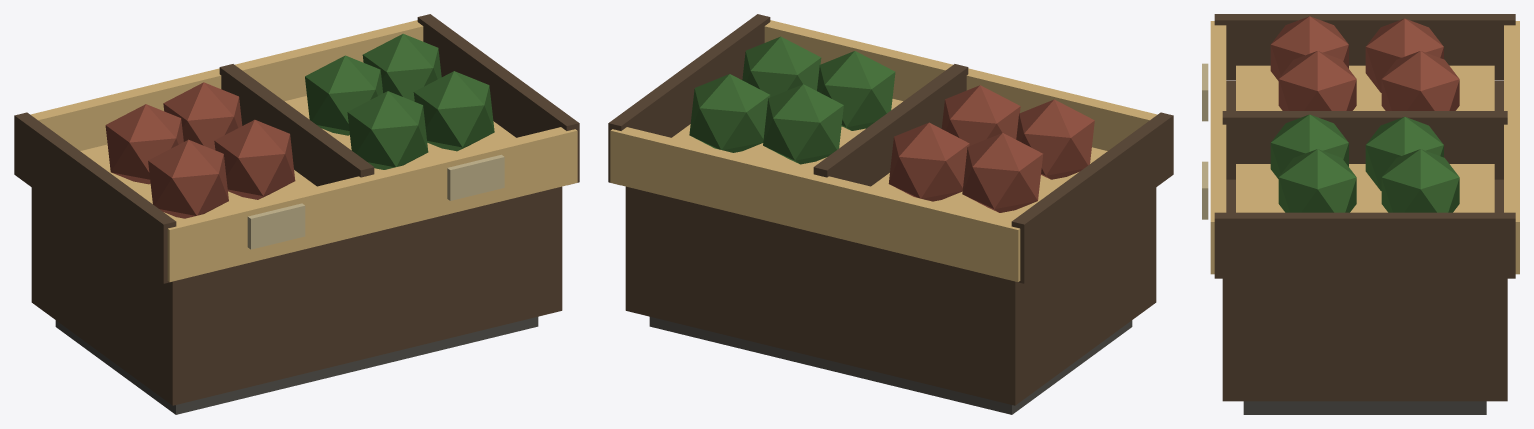
The model's file is prop-produce-bin.glb.
The picture shows the model from 3 angles, left to right: view 1: azimuth 30°, elevation 25°; view 2: azimuth 150°, elevation 25°; view 3: azimuth 270°, elevation 25°; orthographic projection.
Parts seen in each view (by area): view 1: produce_bin; view 2: produce_bin; view 3: produce_bin.
Part boxes in pixels (x1=…): produce_bin: x1=14, y1=14, x2=579, y2=414; produce_bin: x1=608, y1=14, x2=1173, y2=414; produce_bin: x1=1202, y1=14, x2=1519, y2=414.
Bounding box in the file's own units: 0.918 × 0.507 × 0.602.
